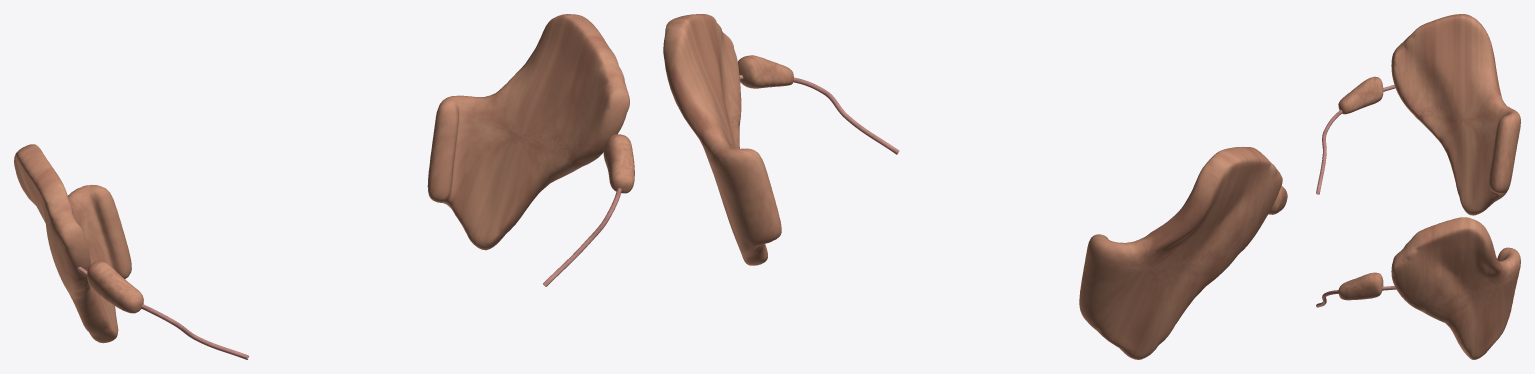
Rendered from parotid.glb.
3 renders of one model, left to right at view 1: azimuth 30°, elevation 25°; view 2: azimuth 150°, elevation 25°; view 3: azimuth 270°, elevation 25°, orthographic. The views are drawn at different scales.
Parts seen in each view (by area): view 1: Parotid gland.l.001, Parotid gland.r.001, (Accessory parotid gland).r.001, (Accessory parotid gland).l.001, Parotid duct.r.001, Parotid duct.l.001; view 2: Parotid gland.r.001, Parotid gland.l.001, (Accessory parotid gland).l.001, Parotid duct.l.001; view 3: Parotid gland.r.001, Parotid gland.l.001, (Accessory parotid gland).r.001, (Accessory parotid gland).l.001, Parotid duct.r.001, Parotid duct.l.001.
Boxes of the visible parts, x1,y1,x2,y2 form: Parotid gland.l.001: [427, 14, 629, 250]; Parotid gland.r.001: [14, 144, 131, 343]; (Accessory parotid gland).r.001: [87, 260, 143, 313]; (Accessory parotid gland).l.001: [603, 134, 634, 193]; Parotid duct.r.001: [77, 267, 249, 359]; Parotid duct.l.001: [543, 188, 621, 286]; Parotid gland.r.001: [1079, 147, 1282, 359]; Parotid gland.l.001: [663, 14, 781, 265]; (Accessory parotid gland).l.001: [738, 55, 793, 88]; Parotid duct.l.001: [739, 75, 899, 154]; Parotid gland.r.001: [1391, 14, 1520, 215]; Parotid gland.l.001: [1391, 217, 1520, 359]; (Accessory parotid gland).r.001: [1338, 76, 1383, 114]; (Accessory parotid gland).l.001: [1338, 272, 1383, 300]; Parotid duct.r.001: [1316, 84, 1395, 194]; Parotid duct.l.001: [1316, 286, 1396, 307].
Bounding box in the file's own units: 0.1298 × 0.0475 × 0.0519.
2 materials, 2 textured.
